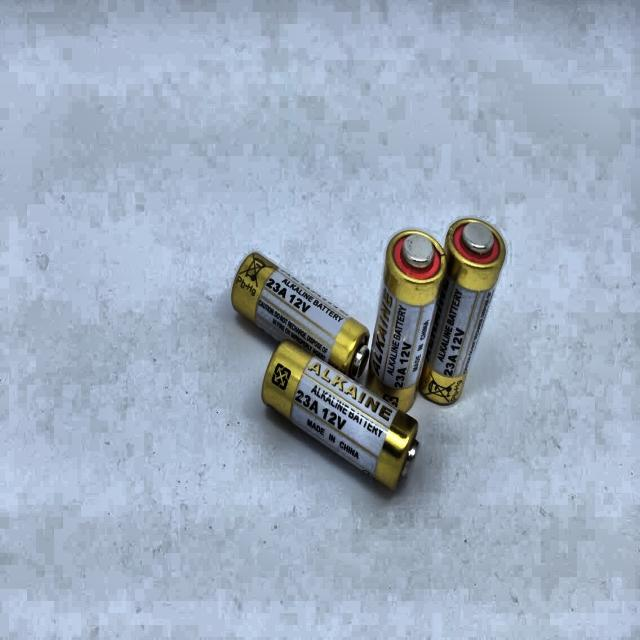Non-Valuable Waste - Batteries: (261, 340, 419, 489), (231, 252, 370, 378), (420, 218, 505, 403), (368, 230, 446, 412)
